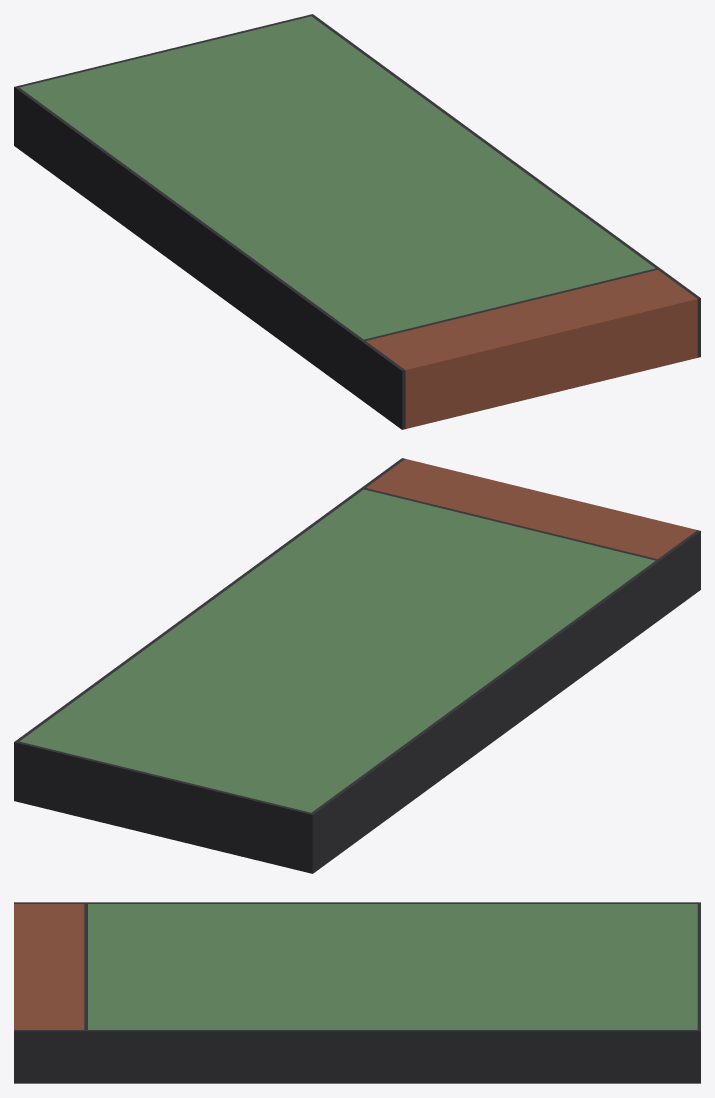
File: brown_sector.glb
3 renders of one model, top to bottom at view 1: azimuth 30°, elevation 25°; view 2: azimuth 150°, elevation 25°; view 3: azimuth 270°, elevation 25°, orthographic. The views are drawn at different scales.
Visible parts, largest first — view 1: brown_sector; view 2: brown_sector; view 3: brown_sector.
Boxes of the visible parts, x1,y1,x2,y2 form: brown_sector: [14, 14, 700, 429]; brown_sector: [14, 458, 700, 873]; brown_sector: [14, 902, 700, 1083].
Bounding box in the file's own units: 8 × 1.51 × 18.
1 material, 1 textured.
